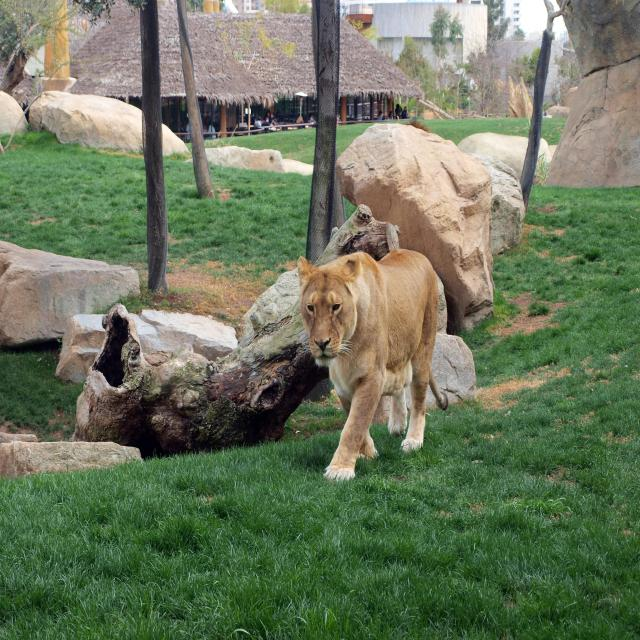Lion: (296, 250, 449, 482)
